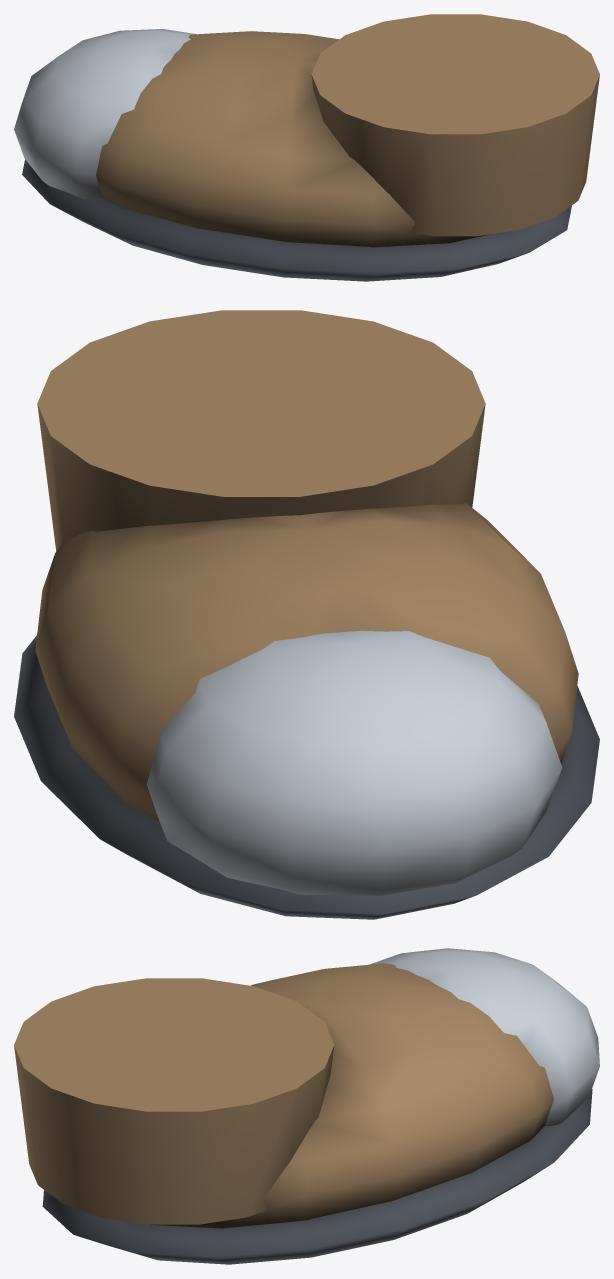
File: welder_feet.fbx
The picture shows the model from 3 angles, top to bottom: view 1: azimuth 30°, elevation 25°; view 2: azimuth 150°, elevation 25°; view 3: azimuth 270°, elevation 25°; orthographic projection. The views are drawn at different scales.
Visible parts, largest first — view 1: welder_feet; view 2: welder_feet; view 3: welder_feet.
Part boxes in pixels (<box>): welder_feet: <box>14,14,599,281</box>; welder_feet: <box>14,310,599,919</box>; welder_feet: <box>14,948,599,1264</box>.
Bounding box in the file's own units: 0.7817 × 0.32 × 0.845.
